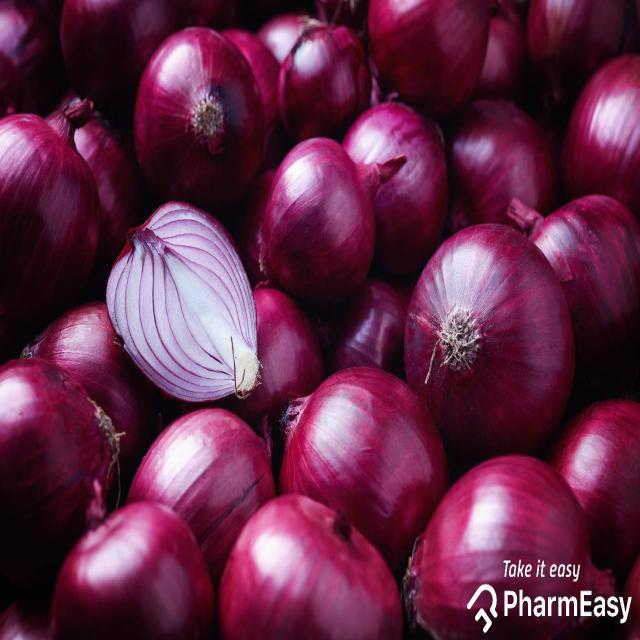onion: (405, 449, 617, 640), (407, 227, 571, 460), (279, 364, 447, 558), (106, 199, 256, 405), (258, 134, 402, 310), (43, 495, 217, 640), (219, 499, 397, 640), (130, 24, 260, 209), (126, 405, 272, 563), (0, 108, 104, 318), (521, 189, 640, 357), (343, 99, 448, 271), (368, 0, 499, 113)
